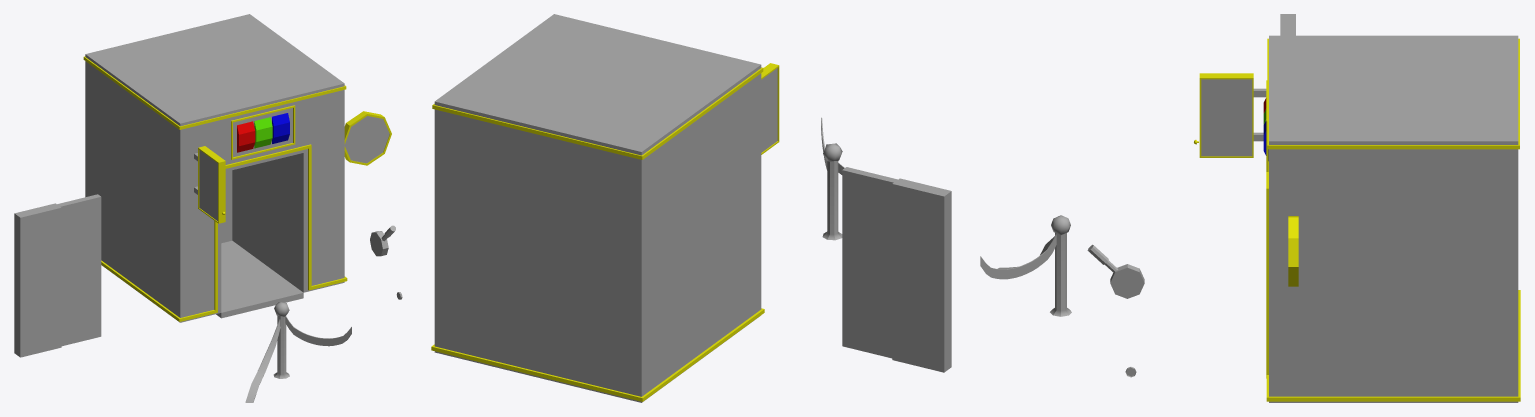
The model's file is ElevatorEmission.fbx.
3 views of the same model, side by side, from view 1: azimuth 30°, elevation 25°; view 2: azimuth 150°, elevation 25°; view 3: azimuth 270°, elevation 25° (orthographic). The views are drawn at different scales.
Parts seen in each view (by area): view 1: base, bigdoor, smalldoor, floor, NeonStrips, sign, sign1, neonsignpart1, post, ribbon2, neonsignpart, ribbon1 (+4 smaller); view 2: base, bigdoor, smalldoor, NeonStrips, post, sign1; view 3: base, NeonStrips, sign1, post, handle, neonsignpart1, ribbon1, neonsignpart.
Part boxes in pixels (x1,y1,x2,y2): base: (85,14,344,322); bigdoor: (14,203,61,357); smalldoor: (57,194,101,346); floor: (216,240,303,318); NeonStrips: (83,56,347,321); sign: (344,116,389,163); sign1: (194,150,217,220); neonsignpart1: (198,146,225,223); post: (273,302,289,378); ribbon2: (245,319,280,402); neonsignpart: (344,111,391,165); ribbon1: (285,316,351,346); base: (434,14,761,402); bigdoor: (892,178,951,372); smalldoor: (842,167,897,358); NeonStrips: (431,67,764,401); post: (822,143,842,240); sign1: (761,68,777,152); base: (1269,35,1518,402); NeonStrips: (1266,38,1520,401); sign1: (1201,79,1266,156); post: (1050,215,1071,316); handle: (1087,244,1144,298); neonsignpart1: (1199,73,1253,157); ribbon1: (980,234,1056,279); neonsignpart: (1288,216,1298,286).
Bounding box in the file's own units: 5.37 × 2.81 × 5.11.
